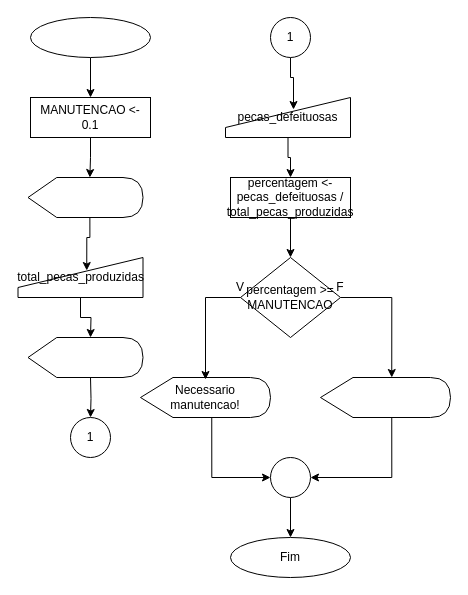
This 468x595 diagram has some shape labels left out. Here are the shapes that lost their labels. From the top down, the centre of each, then its label:
At [90,37]: "Início".
At [85,197]: "Quantas pecas foram produzidas no total?".
At [85,357]: "Quantas pecas estao defeituosas?".
At [385,397]: "Sem necessidade de manutencao!".
